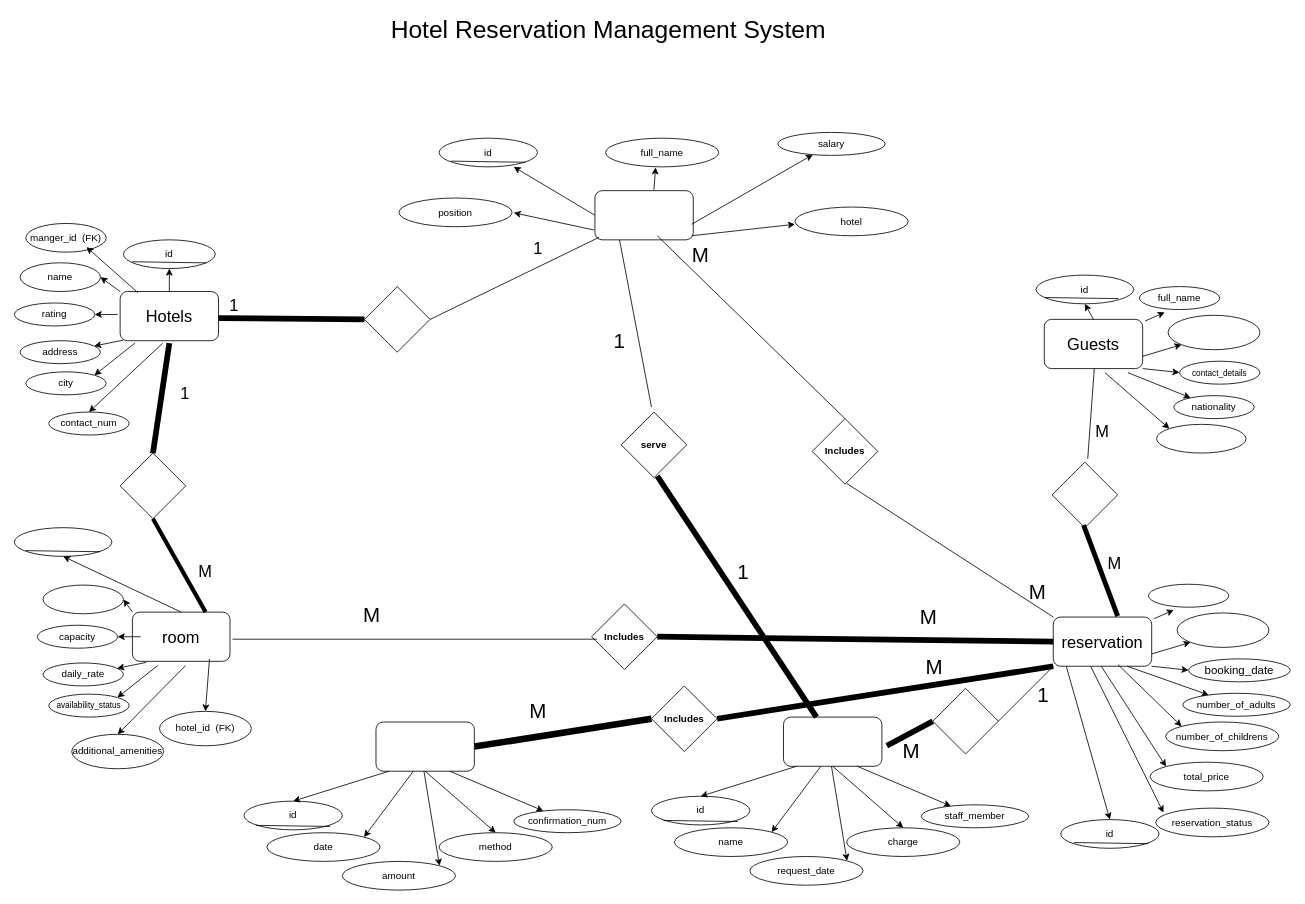
Some shapes in this 1305 by 904 pixel diagram are drawn without their labels. Here are the shapes that lost their labels. From the top down, the centre of each, then its label:
At (643,215): "staff".
At (397,319): "Mange".
At (1213,332): "date_of_birth".
At (1201,438): "id_passport".
At (152,485): "Contains".
At (1084,494): "reserve".
At (63,541): "room_num".
At (82,599): "room type".
At (1188,595): "check_in_date".
At (1222,629): "check_out_date".
At (832,741): "services".
At (965,721): "has".
At (424,746): "Payments".
